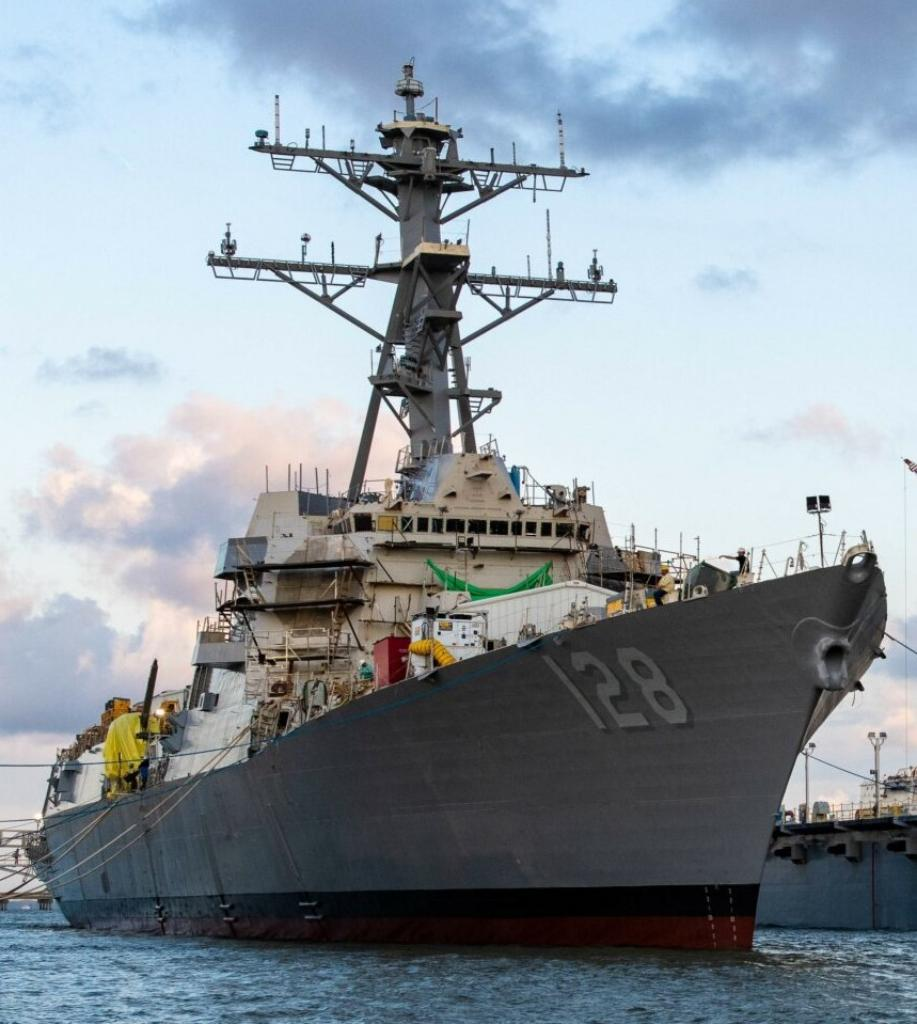Warship: (14, 60, 906, 936)
